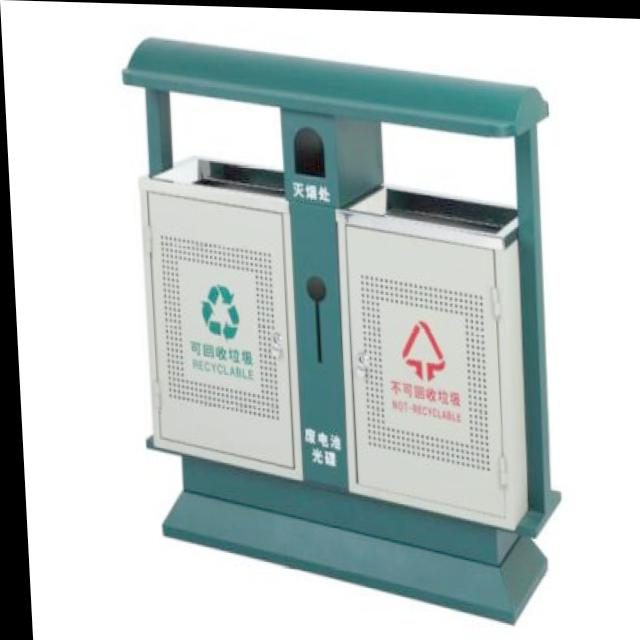garbage_bin: (118, 32, 567, 623)
